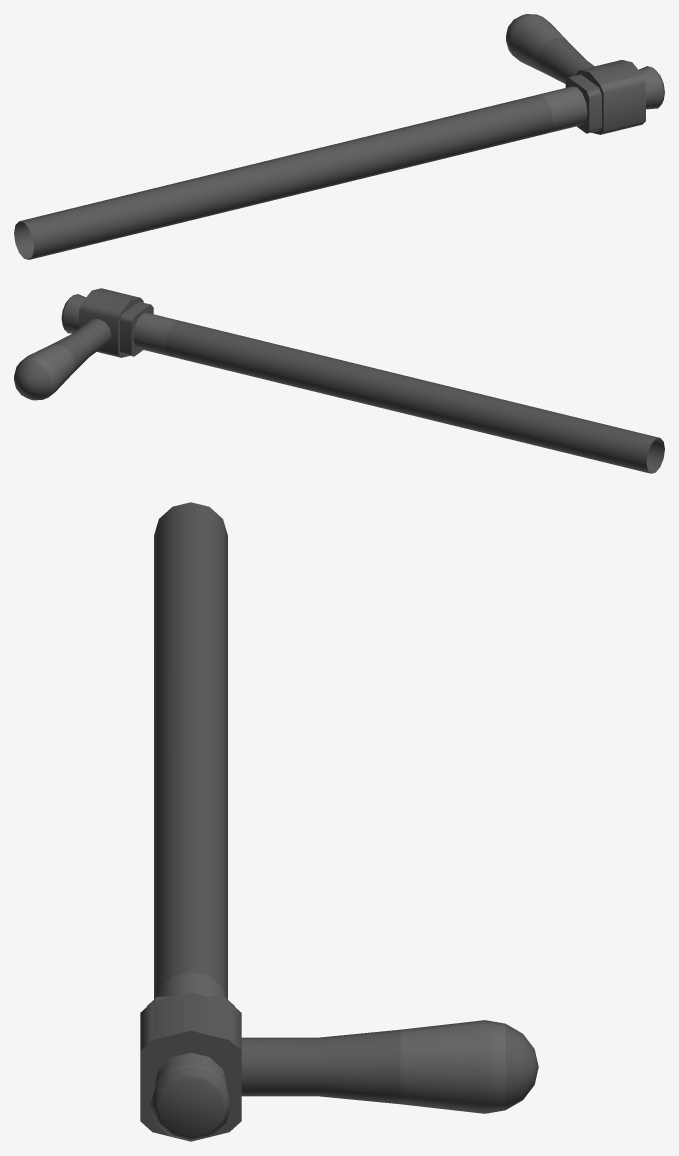
Rendered from SM_levier1_2main_low.fbx.
3 views of the same model, one above another, from view 1: azimuth 30°, elevation 25°; view 2: azimuth 150°, elevation 25°; view 3: azimuth 270°, elevation 25° (orthographic). The views are drawn at different scales.
Visible parts, largest first — view 1: SM_levier1_2main_low; view 2: SM_levier1_2main_low; view 3: SM_levier1_2main_low.
Part boxes in pixels (<box>): SM_levier1_2main_low: <box>14,14,664,259</box>; SM_levier1_2main_low: <box>14,288,664,473</box>; SM_levier1_2main_low: <box>140,502,538,1141</box>.
Size of the model in its own units: 0.9001 by 0.0815 by 0.265.
Materials: 1 (1 with a texture image).
